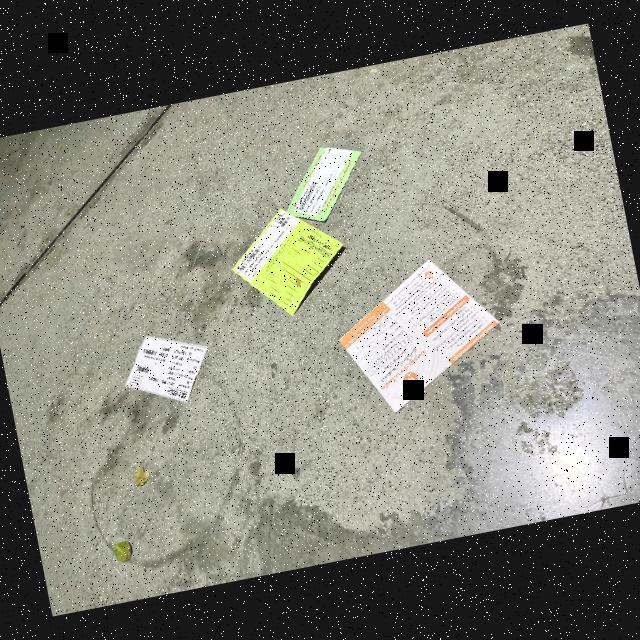scrap_paper: (326, 248, 503, 420), (220, 200, 360, 326), (111, 320, 219, 426), (277, 137, 371, 230)
